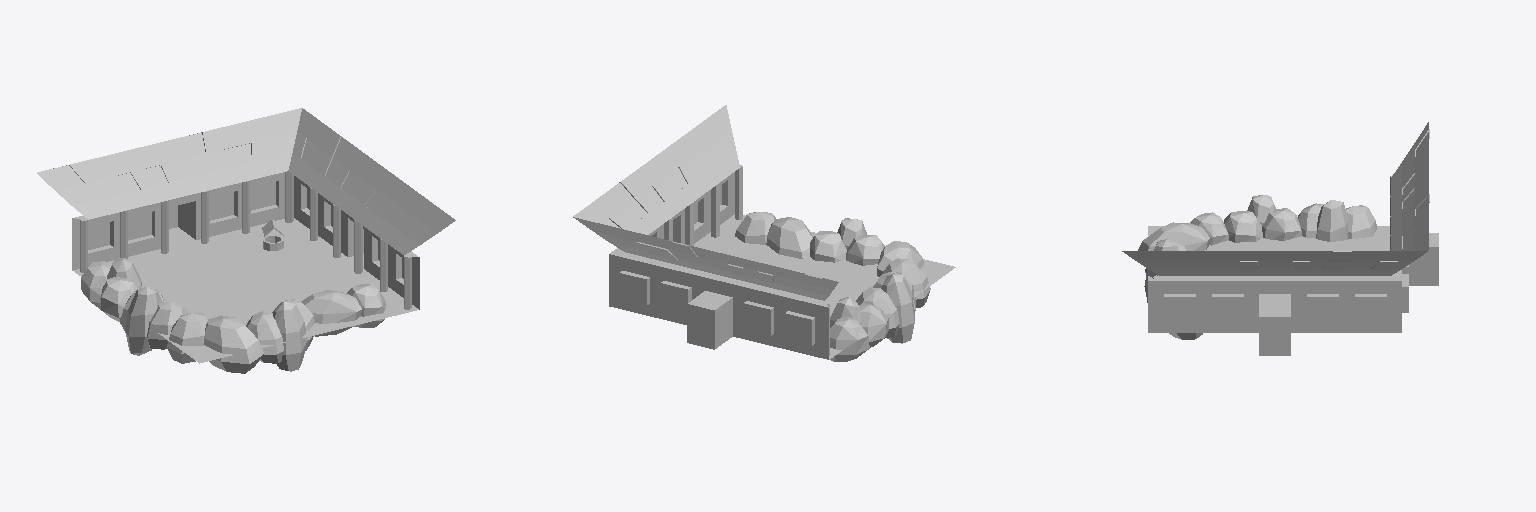
Rendered from isometric.obj.
3 views of the same model, side by side, from view 1: azimuth 30°, elevation 25°; view 2: azimuth 150°, elevation 25°; view 3: azimuth 270°, elevation 25° (orthographic).
Visible parts, largest first — view 1: [Imported]_obj1_obj1.001, [Imported]_obj19_obj19.001, [Imported]_obj20_obj20.001, [Imported]_obj21_obj21.001, [Imported]_obj15_obj15.001, [Imported]_obj18_obj18.001, [Imported]_obj16_obj16.001, [Imported]_obj14_obj14.001; view 2: [Imported]_obj1_obj1.001, [Imported]_obj21_obj21.001, [Imported]_obj20_obj20.001, [Imported]_obj19_obj19.001, [Imported]_obj15_obj15.001, [Imported]_obj18_obj18.001, [Imported]_obj14_obj14.001, [Imported]_obj17_obj17.001; view 3: [Imported]_obj1_obj1.001, [Imported]_obj21_obj21.001, [Imported]_obj19_obj19.001, [Imported]_obj17_obj17.001, [Imported]_obj16_obj16.001.
Part boxes in pixels (bbox=[...]): [Imported]_obj1_obj1.001: bbox=[37, 108, 455, 363]; [Imported]_obj19_obj19.001: bbox=[166, 313, 263, 373]; [Imported]_obj20_obj20.001: bbox=[246, 299, 314, 371]; [Imported]_obj21_obj21.001: bbox=[81, 258, 141, 321]; [Imported]_obj15_obj15.001: bbox=[301, 290, 361, 336]; [Imported]_obj18_obj18.001: bbox=[125, 287, 162, 355]; [Imported]_obj16_obj16.001: bbox=[147, 302, 189, 349]; [Imported]_obj14_obj14.001: bbox=[347, 284, 385, 327]; [Imported]_obj1_obj1.001: bbox=[573, 105, 955, 359]; [Imported]_obj21_obj21.001: bbox=[830, 297, 888, 361]; [Imported]_obj20_obj20.001: bbox=[810, 218, 884, 265]; [Imported]_obj19_obj19.001: bbox=[877, 241, 930, 307]; [Imported]_obj15_obj15.001: bbox=[766, 217, 812, 258]; [Imported]_obj18_obj18.001: bbox=[881, 273, 914, 343]; [Imported]_obj14_obj14.001: bbox=[735, 212, 775, 244]; [Imported]_obj17_obj17.001: bbox=[856, 287, 899, 337]; [Imported]_obj1_obj1.001: bbox=[1122, 122, 1438, 355]; [Imported]_obj21_obj21.001: bbox=[1298, 200, 1376, 241]; [Imported]_obj19_obj19.001: bbox=[1138, 212, 1228, 250]; [Imported]_obj17_obj17.001: bbox=[1262, 208, 1301, 240]; [Imported]_obj16_obj16.001: bbox=[1224, 211, 1262, 242].
Bounding box in the file's own units: 59.55 × 25.1 × 56.18.